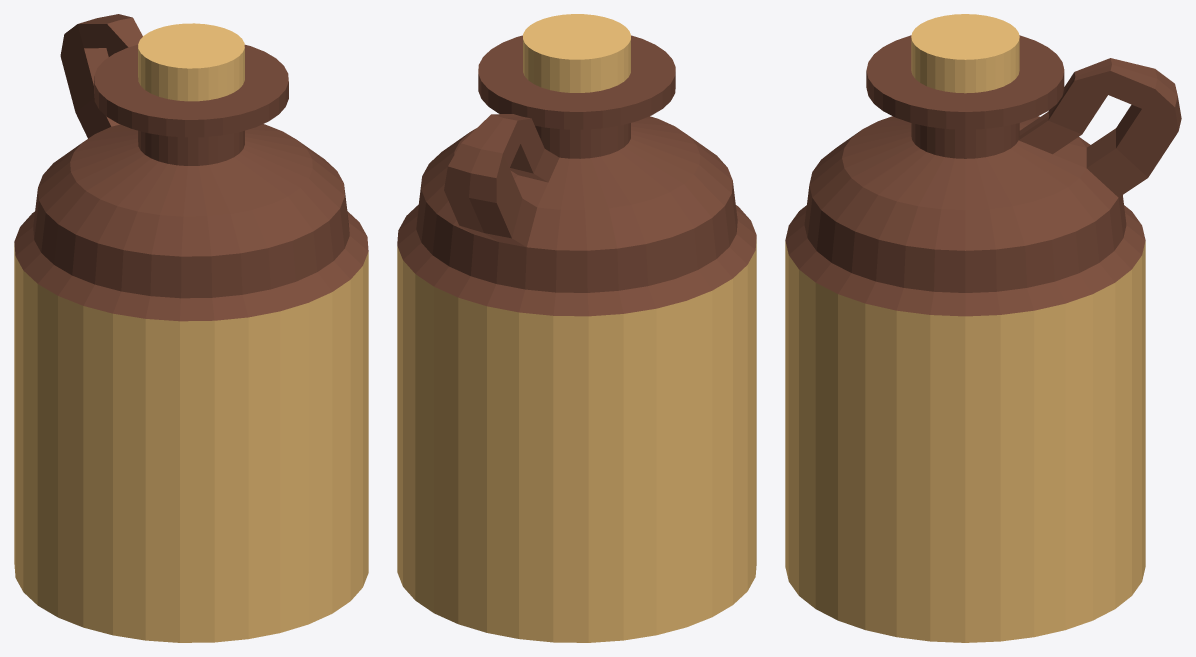
File: XXX2.glb
3 views of the same model, side by side, from view 1: azimuth 30°, elevation 25°; view 2: azimuth 150°, elevation 25°; view 3: azimuth 270°, elevation 25° (orthographic).
Visible parts, largest first — view 1: Bottle; view 2: Bottle; view 3: Bottle.
Boxes of the visible parts, box(x1,y1,x2,y2) form: Bottle: box(14, 14, 368, 642); Bottle: box(397, 14, 756, 642); Bottle: box(785, 14, 1181, 642).
Size of the model in its own units: 0.8277 by 1.34 by 0.9105.
